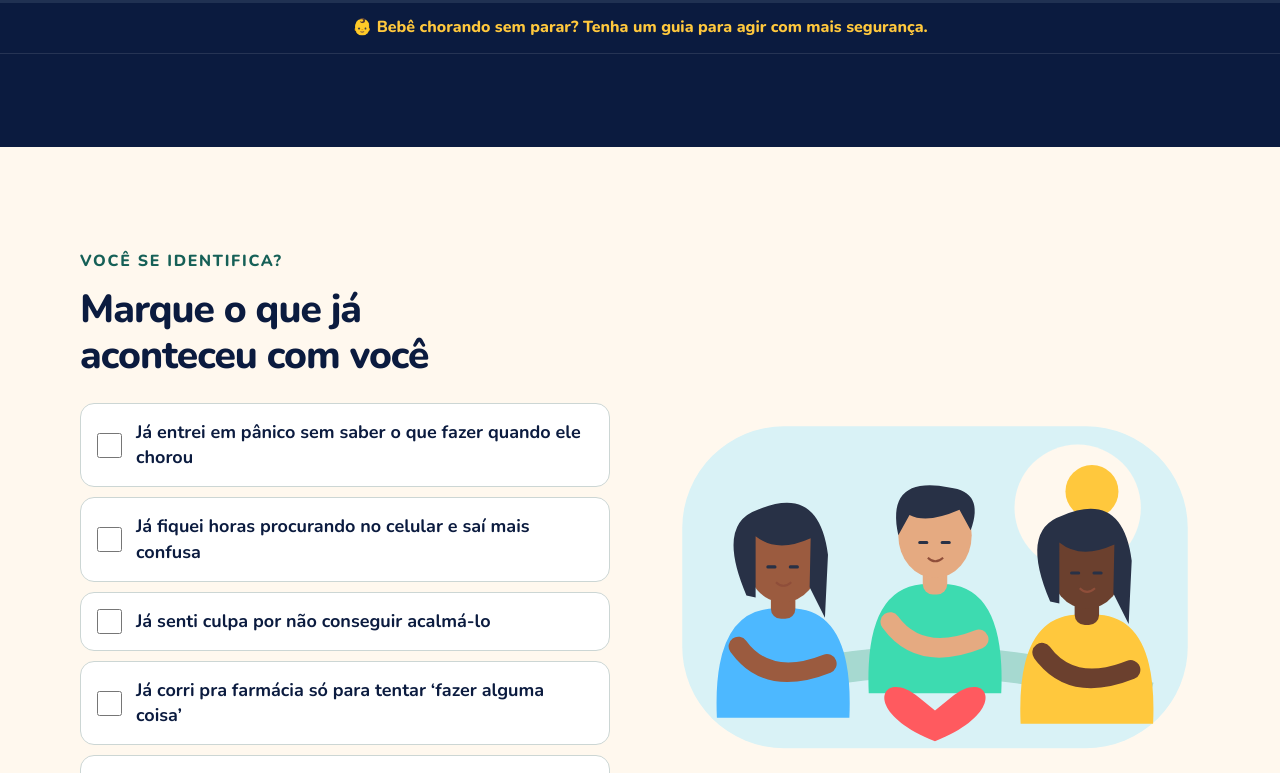
Test: SOS Bebê interactions › updates the checklist without collecting personal data
The width and height of the screenshot is (1280, 773).
(page scrolled)
Click the checkbox labelled "Já entrei em pânico sem saber o que fazer quando ele chorou".
click(110, 445)  # box [97, 433, 122, 458]
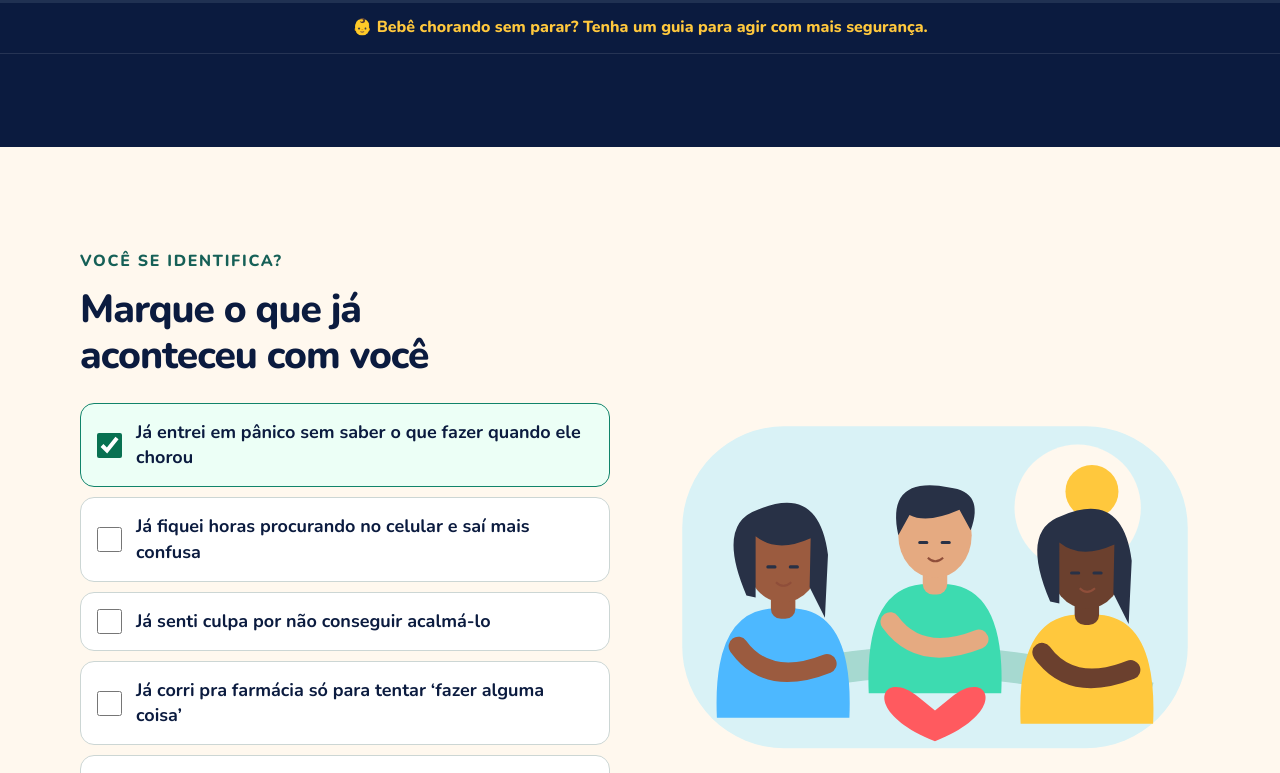
Click the checkbox labelled "Já entrei em pânico sem saber o que fazer quando ele chorou".
click(110, 445)  # box [97, 433, 122, 458]
(page scrolled)
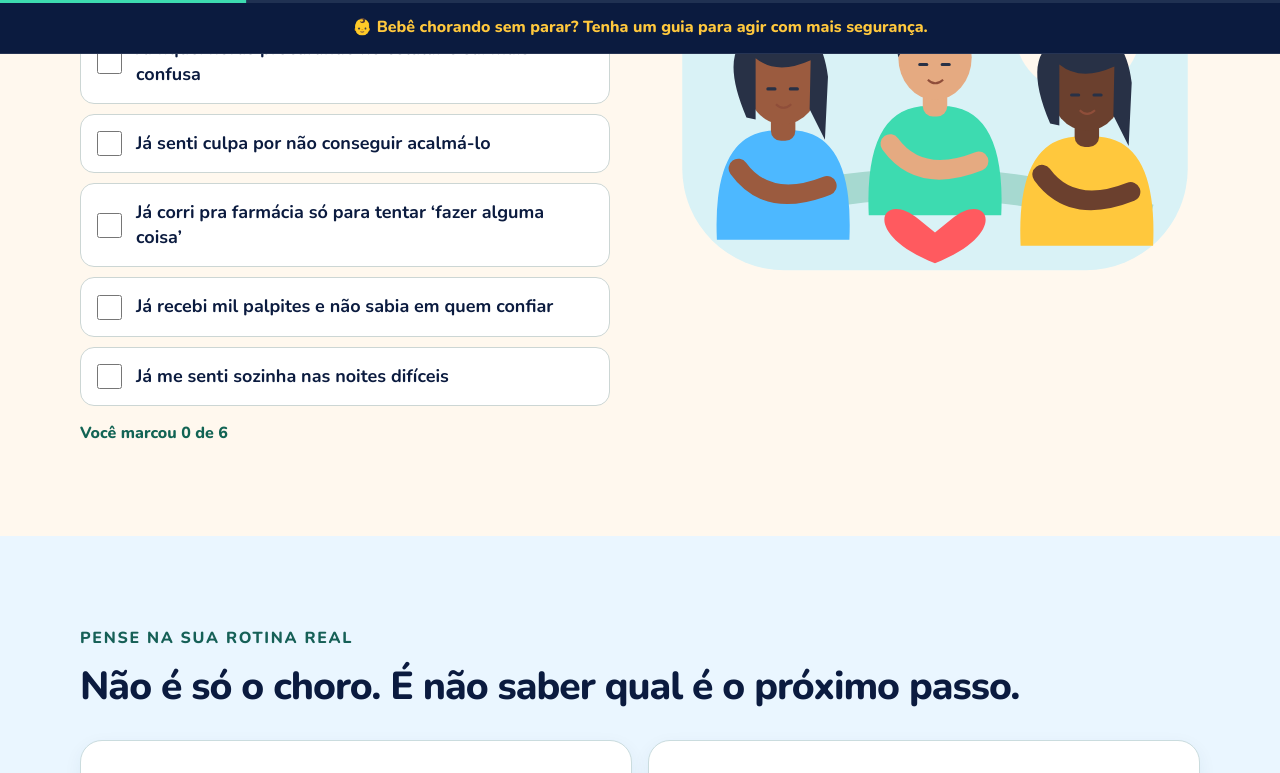
expect the text "Você marcou 0 de 6" is shown: met, box [80, 422, 228, 444]
